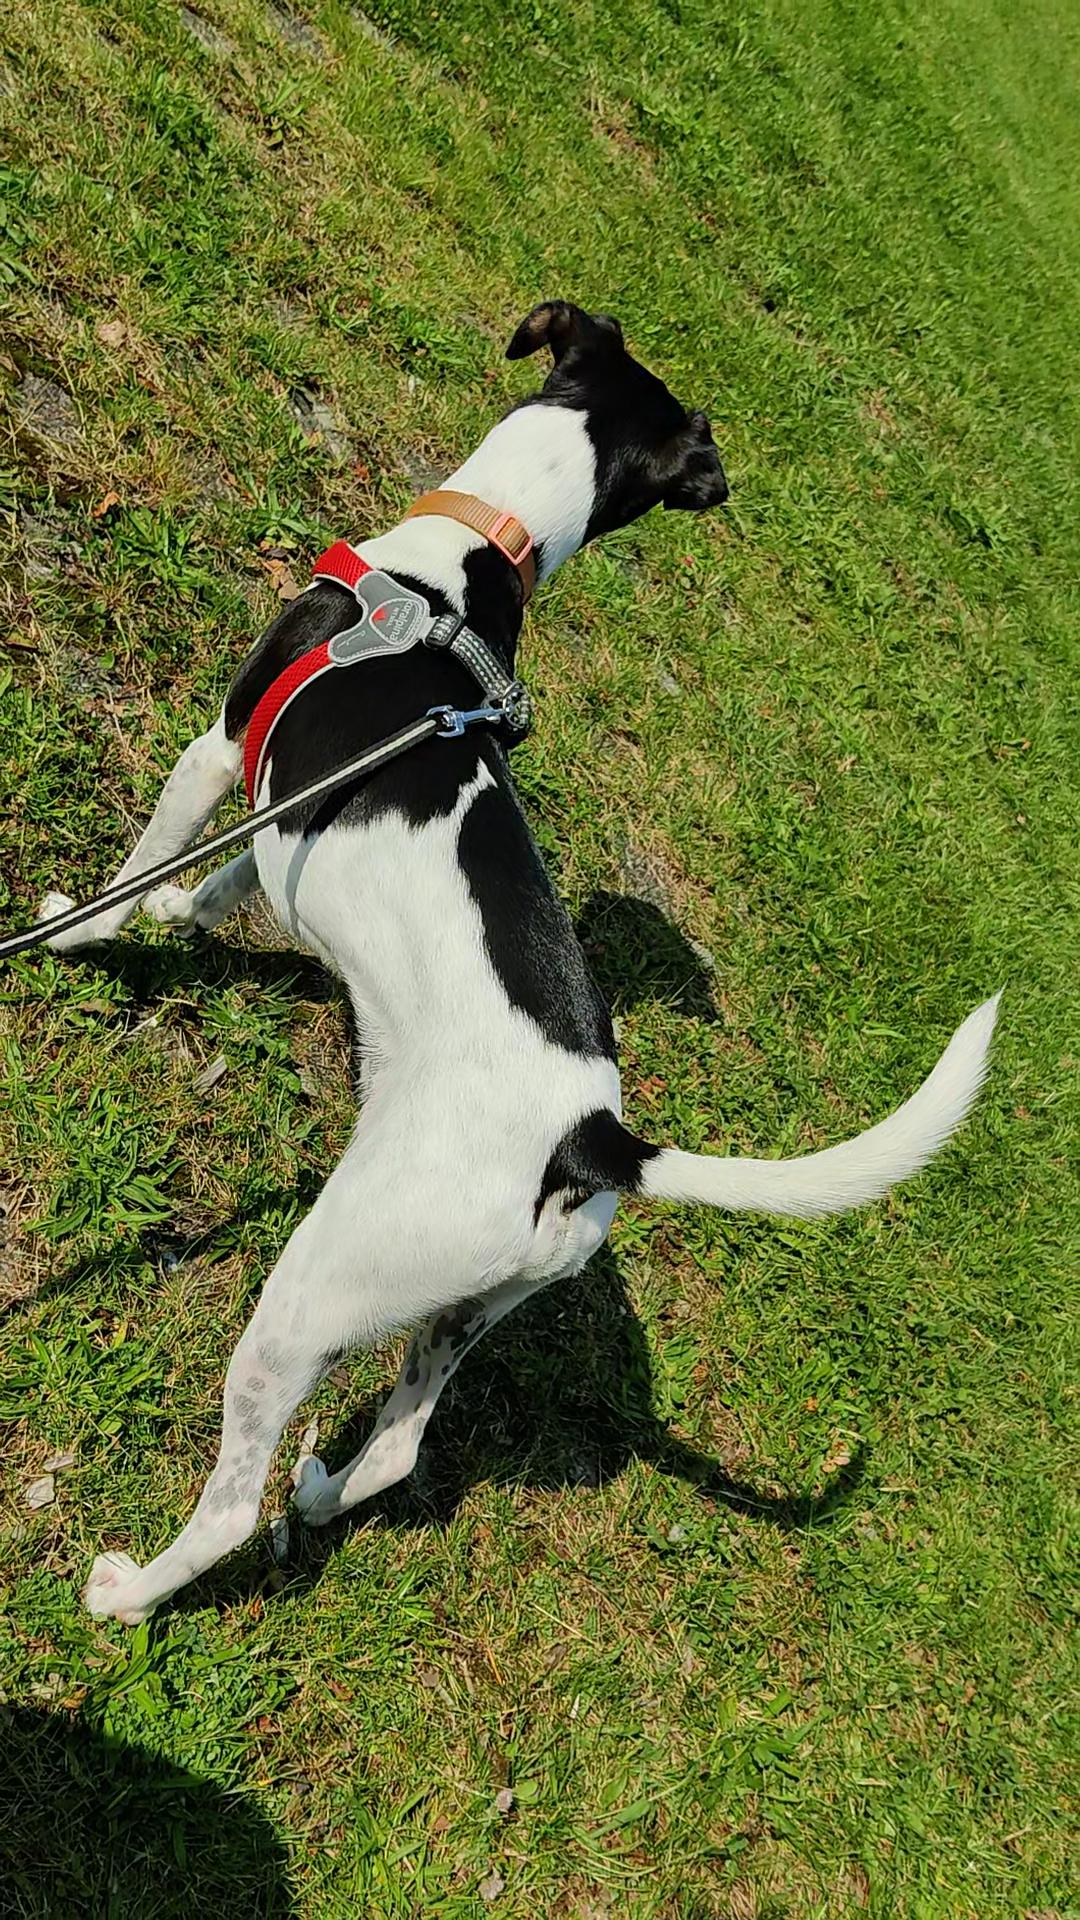Dog: (20, 272, 1010, 1633)
